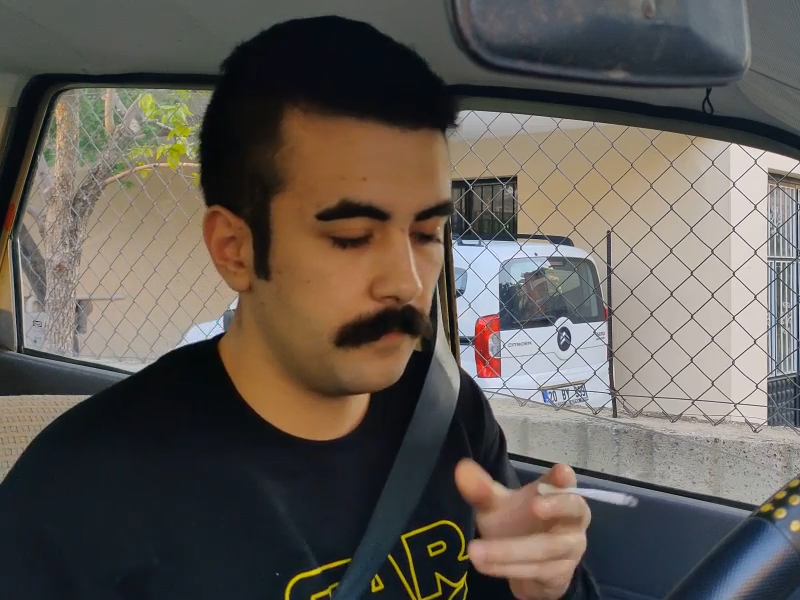sigara: (534, 474, 647, 515)
